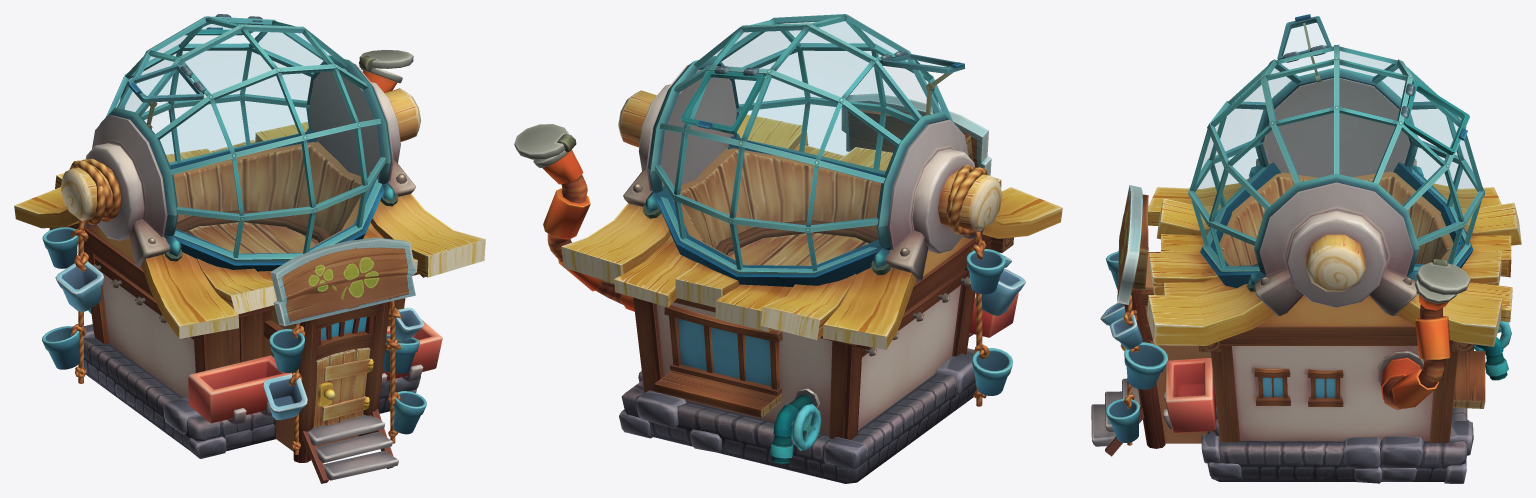
File: SE_GreenHouse_01.fbx
3 renders of one model, left to right at view 1: azimuth 30°, elevation 25°; view 2: azimuth 150°, elevation 25°; view 3: azimuth 270°, elevation 25°, orthographic. The views are drawn at different scales.
Parts seen in each view (by area): view 1: SE_GreenHouse_01; view 2: SE_GreenHouse_01; view 3: SE_GreenHouse_01.
Boxes of the visible parts, x1,y1,x2,y2 form: SE_GreenHouse_01: (14,14,485,483); SE_GreenHouse_01: (514,14,1062,483); SE_GreenHouse_01: (1091,14,1521,483).
Size of the model in its own units: 14.65 by 12.57 by 12.95.
